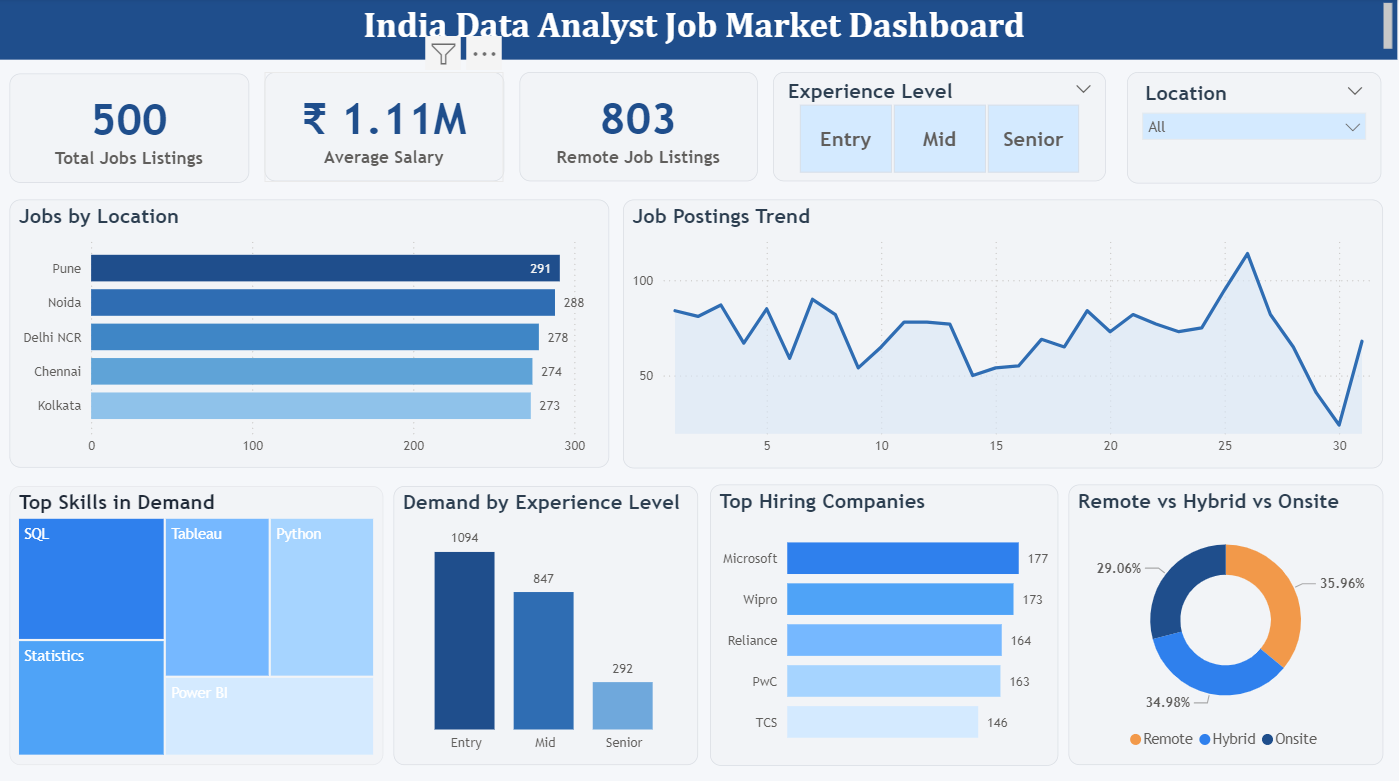

This screenshot's page, from the dashboard's own definition file:
{"tool":"powerbi","page":{"name":"Page 1","canvas":[1280,720],"ordinal":0},"visuals":[{"type":"textbox","box":[0,0,1279.5,57.5],"z":0},{"type":"card","fields":{"Values":["Sheet1.Total Jobs Listings"]},"box":[9.4,69.9,219.2,100.2],"z":1000},{"type":"clusteredBarChart","title":"Jobs by Location","fields":{"Category":["Sheet1.Location"],"Y":["CountNonNull(Sheet1.Job_ID)"]},"box":[9.6,185.3,548.9,245.6],"z":2000},{"type":"lineChart","title":"Job Postings Trend","fields":{"Category":["Sheet1.Posted_Date.Variation.Date Hierarchy.Day"],"Y":["CountNonNull(Sheet1.Job_ID)"]},"box":[570.7,185.2,695.4,245.7],"z":3000},{"type":"clusteredColumnChart","title":"Demand by Experience Level","fields":{"Category":["Sheet1.Experience_Level"],"Y":["CountNonNull(Sheet1.Job_ID)"]},"box":[360.9,447.9,278.4,255.1],"z":4000},{"type":"donutChart","title":"Remote vs Hybrid vs Onsite","fields":{"Category":["Sheet1.Job_Type"],"Y":["CountNonNull(Sheet1.Job_ID)"]},"box":[978.5,446,288.2,256.6],"z":5000},{"type":"treemap","title":"Top Skills in Demand","fields":{"Group":["Sheet1.Skills_Required"],"Values":["CountNonNull(Sheet1.Job_ID)"]},"box":[9.4,447.9,342,255.1],"z":6000},{"type":"barChart","title":"Top Hiring Companies","fields":{"Category":["Sheet1.Company"],"Y":["CountNonNull(Sheet1.Job_ID)"]},"box":[650.7,446,318.7,257],"z":7000},{"type":"slicer","fields":{"Values":["Sheet1.Location"]},"box":[1031.8,68,232.4,102],"z":8000},{"type":"slicer","fields":{"Values":["Sheet1.Experience_Level"]},"box":[708,68,304.9,100.2],"z":9000},{"type":"card","fields":{"Values":["Sheet1.Average Salary"]},"box":[242.5,68.7,219.2,100.2],"z":10000},{"type":"card","fields":{"Values":["Sheet1.Remote Jobs Listings"]},"box":[475.6,68,218,100.2],"z":11000}]}

Visuals, with their boxes in screenshot pixels (x1, y1, x2, y2), scaled from the page's 1280x720 canvas onto the 1399x781 screenshot:
textbox: bbox(0, 0, 1398, 62)
card - Sheet1.Total Jobs Listings: bbox(10, 76, 250, 185)
"Jobs by Location" clusteredBarChart: bbox(10, 201, 610, 467)
"Job Postings Trend" lineChart: bbox(624, 201, 1384, 467)
"Demand by Experience Level" clusteredColumnChart: bbox(394, 486, 699, 763)
"Remote vs Hybrid vs Onsite" donutChart: bbox(1069, 484, 1384, 762)
"Top Skills in Demand" treemap: bbox(10, 486, 384, 763)
"Top Hiring Companies" barChart: bbox(711, 484, 1060, 763)
slicer - Sheet1.Location: bbox(1128, 74, 1382, 184)
slicer - Sheet1.Experience_Level: bbox(774, 74, 1107, 182)
card - Sheet1.Average Salary: bbox(265, 75, 505, 183)
card - Sheet1.Remote Jobs Listings: bbox(520, 74, 758, 182)
